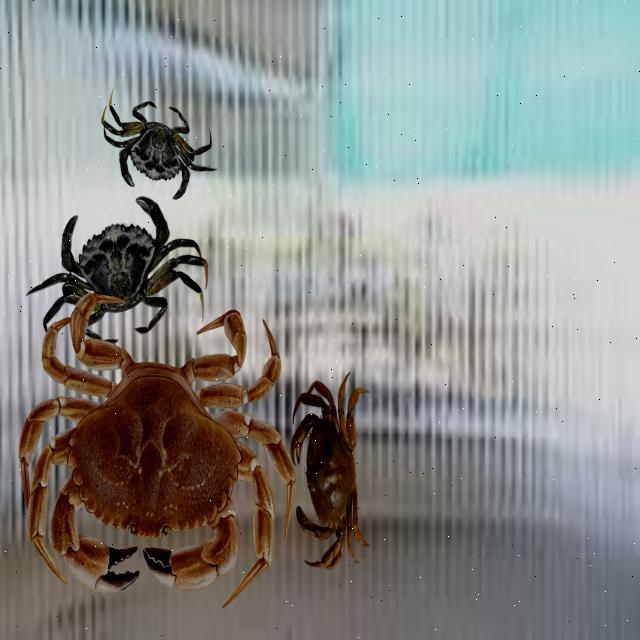European_Green_Crab: (18, 182, 214, 363), (92, 82, 225, 217)
